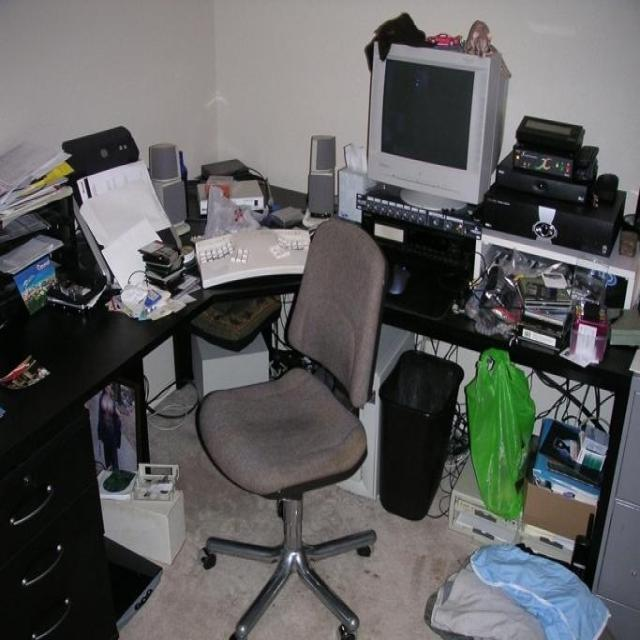Cable: (541, 369, 611, 433)
E-waste: (362, 34, 636, 331), (378, 338, 452, 536)
